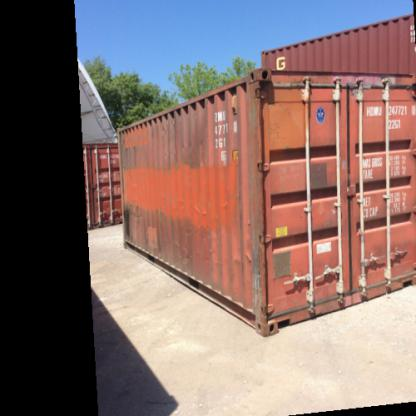Damage: (155, 118, 192, 173), (121, 198, 144, 245), (172, 223, 194, 268), (119, 134, 141, 168), (183, 198, 212, 222), (231, 245, 252, 272)
